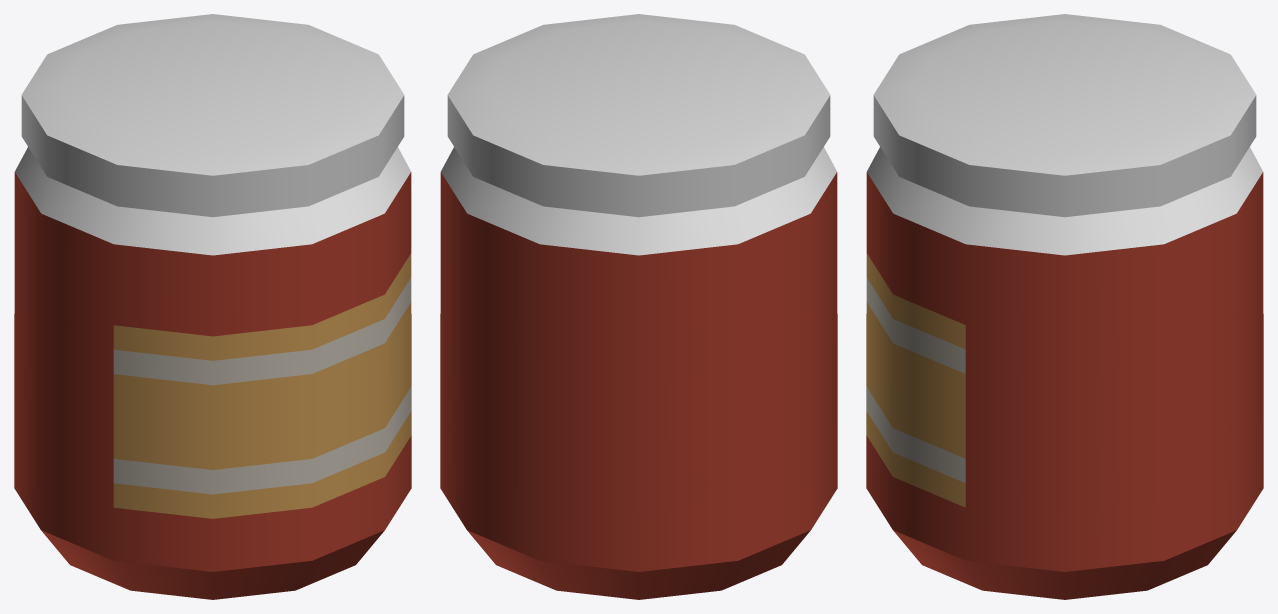
File: Jam_01.fbx
3 renders of one model, left to right at view 1: azimuth 30°, elevation 25°; view 2: azimuth 150°, elevation 25°; view 3: azimuth 270°, elevation 25°, orthographic.
Visible parts, largest first — view 1: Jam_01; view 2: Jam_01; view 3: Jam_01.
Part boxes in pixels (box(x1,y1,x2,y2)): Jam_01: box(14, 14, 411, 599); Jam_01: box(440, 14, 837, 599); Jam_01: box(866, 14, 1263, 599).
Bounding box in the file's own units: 0.0976 × 0.1201 × 0.0976.
